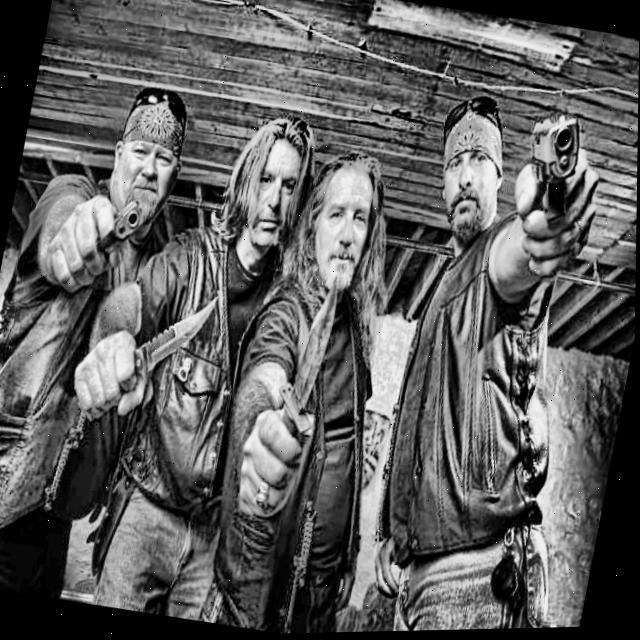pistol: (503, 100, 590, 257)
